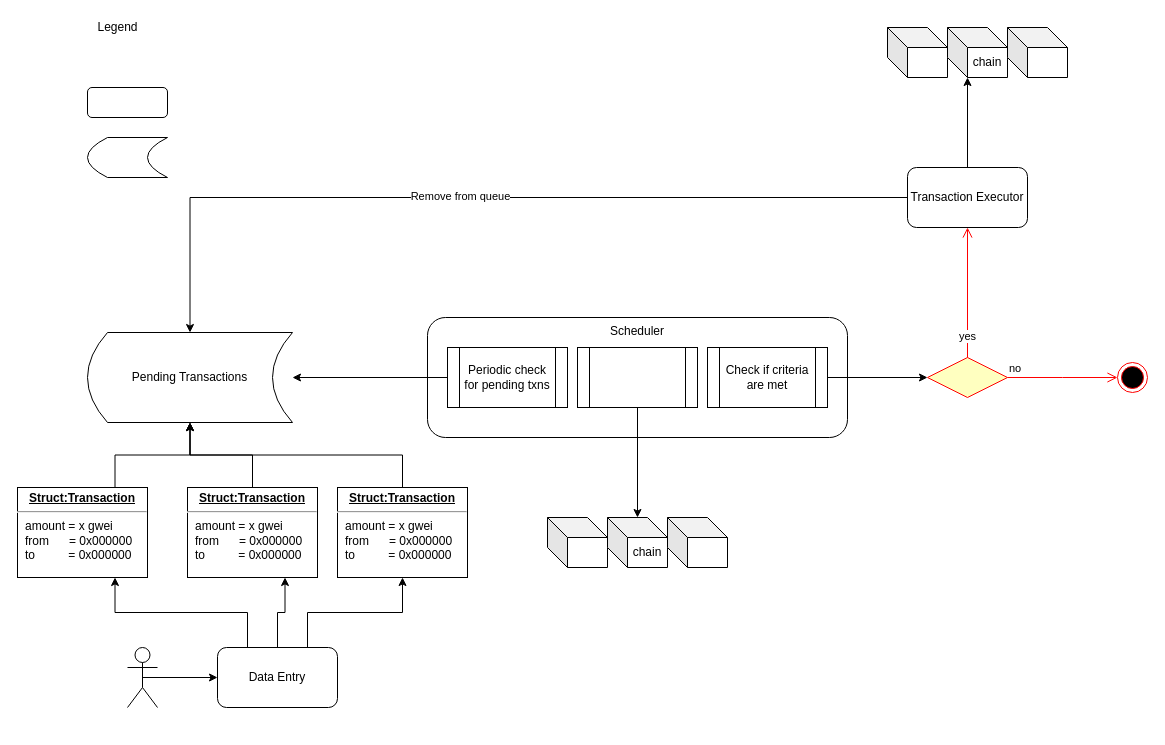
This 1165x745 diagram has some shape labels left out. The centre of each missing label's shape, as x and y in pixels:
Condition: the point at 967,377
Package: the point at 127,102
Query for estimate: the point at 637,377
queue: the point at 127,157
User: the point at 142,677
